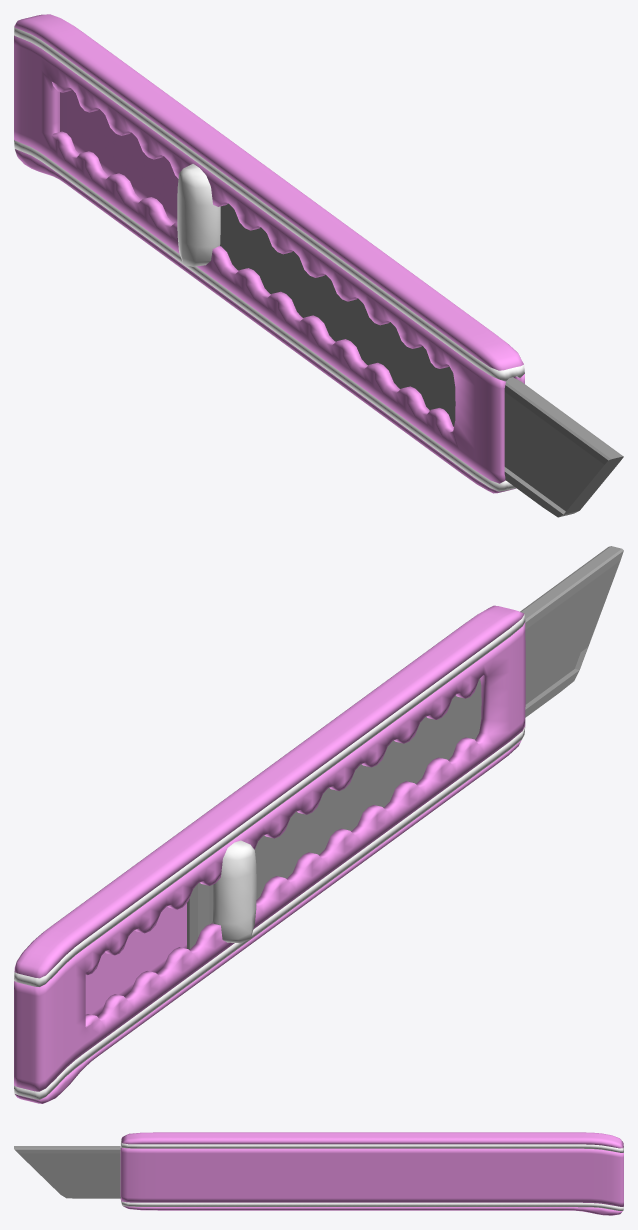
The model's file is Boxcutter3Dpt2.fbx.
The picture shows the model from 3 angles, top to bottom: view 1: azimuth 30°, elevation 25°; view 2: azimuth 150°, elevation 25°; view 3: azimuth 270°, elevation 25°; orthographic projection. The views are drawn at different scales.
Visible parts, largest first — view 1: Cube.003, Cube.001; view 2: Cube.003, Cube.001; view 3: Cube.003, Cube.001.
Part boxes in pixels (x1,y1,x2,y2): Cube.003: (14, 14, 524, 493); Cube.001: (177, 164, 623, 517); Cube.003: (14, 605, 525, 1103); Cube.001: (187, 546, 623, 949); Cube.003: (120, 1132, 623, 1215); Cube.001: (14, 1146, 120, 1198).
Size of the model in its own units: 29.36 by 81.31 by 584.
